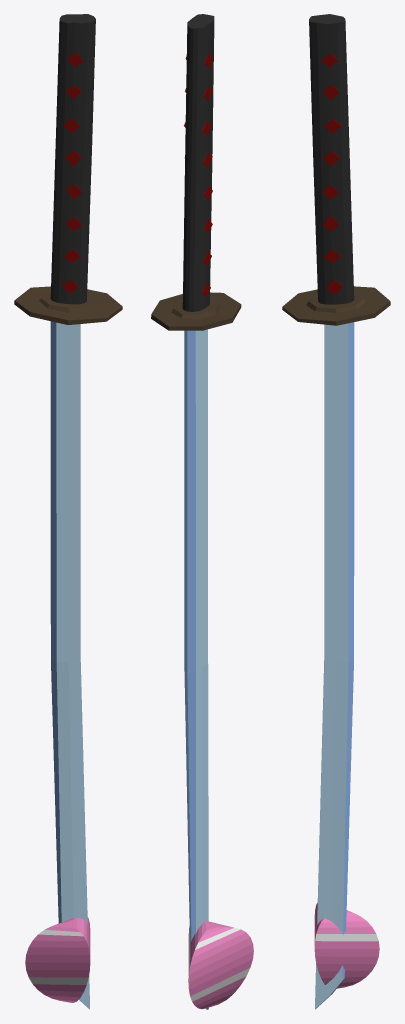
The model's file is katana2.glb.
3 views of the same model, side by side, from view 1: azimuth 90°, elevation 25°; view 2: azimuth 150°, elevation 25°; view 3: azimuth 270°, elevation 25° (orthographic).
Parts seen in each view (by area): view 1: Cube, Sphere; view 2: Cube, Sphere; view 3: Cube, Sphere.
Part boxes in pixels (<box>): Cube: <box>14,14,122,1009</box>; Sphere: <box>25,917,90,1002</box>; Cube: <box>151,14,241,1009</box>; Sphere: <box>188,920,253,1008</box>; Cube: <box>282,14,390,1009</box>; Sphere: <box>314,903,379,988</box>.
Bounding box in the file's own units: 0.3029 × 3.45 × 0.3426.
